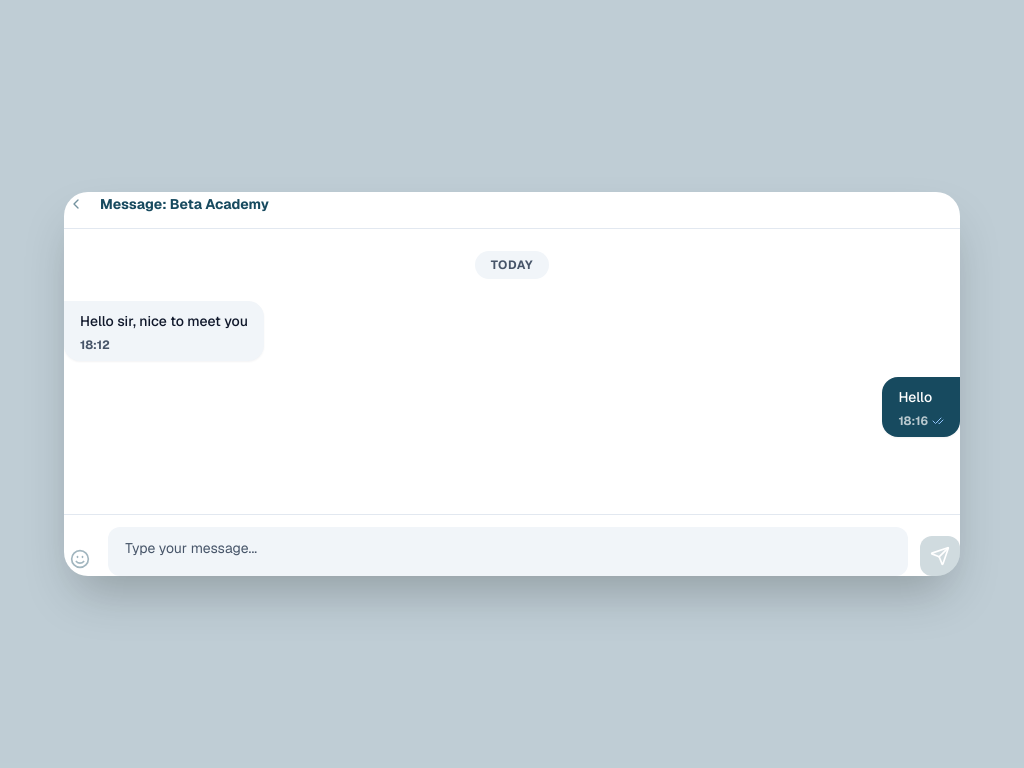
Scenario: MessageModal › discloses the emoji panel with aria-expanded
Click the button named "Insert emoji": (80, 559) [64,543,96,575]
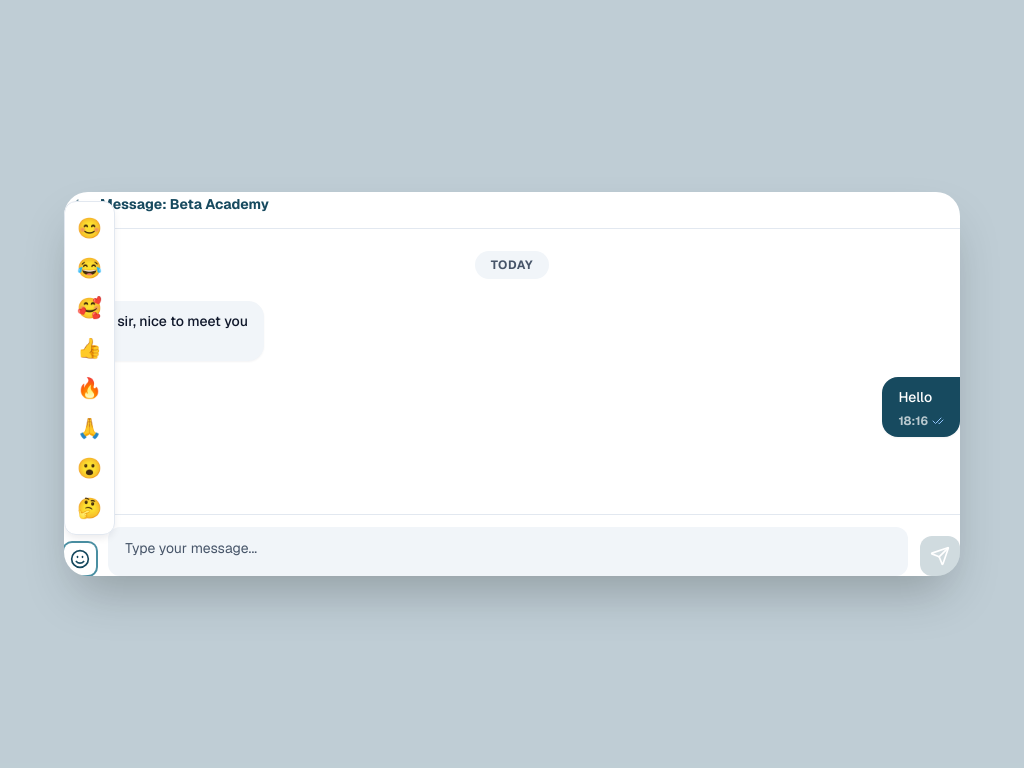
Expected: the button named "Insert emoji" is expanded, [64,543,96,575]
Expected: the element named "Emoji" is shown, [64,201,115,535]
